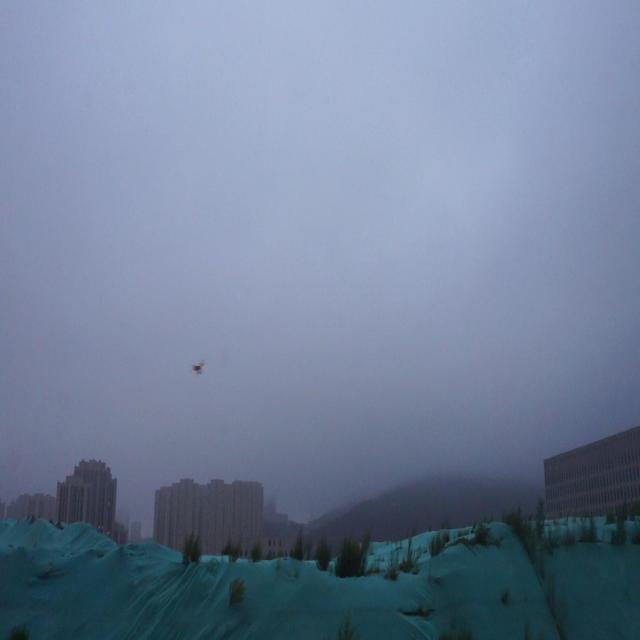UAV: (191, 360, 205, 374)
